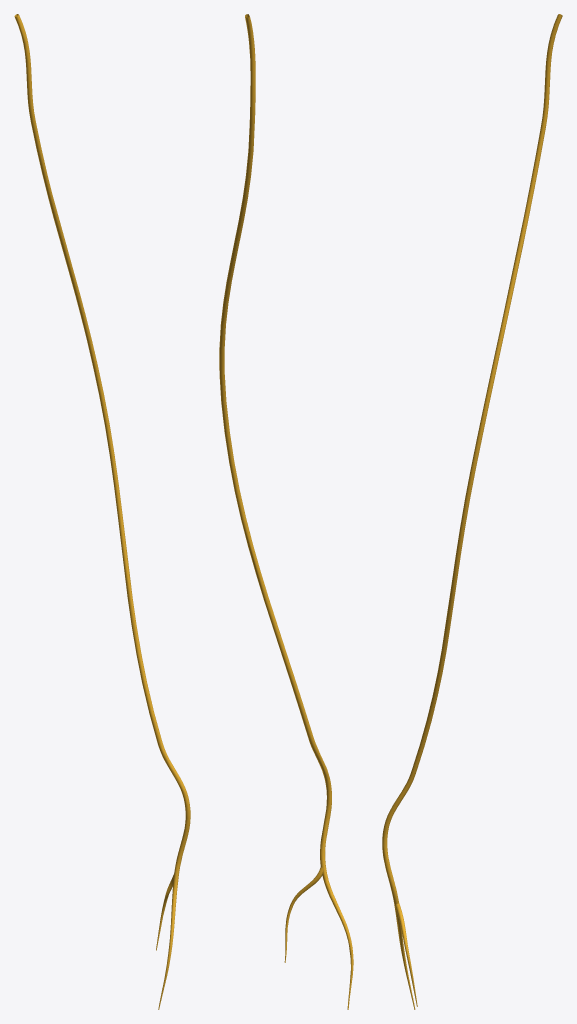
The model's file is nervoso-femoral-branch-of-genitofemoral-nerve-l.glb.
3 renders of one model, left to right at view 1: azimuth 90°, elevation 25°; view 2: azimuth 150°, elevation 25°; view 3: azimuth 270°, elevation 25°, orthographic. The views are drawn at different scales.
Visible parts, largest first — view 1: Femoral branch of genitofemoral nerve.l; view 2: Femoral branch of genitofemoral nerve.l; view 3: Femoral branch of genitofemoral nerve.l.
Part boxes in pixels (x1,y1,x2,y2): Femoral branch of genitofemoral nerve.l: (14, 14, 190, 1009); Femoral branch of genitofemoral nerve.l: (219, 14, 353, 1009); Femoral branch of genitofemoral nerve.l: (382, 14, 562, 1009).
Bounding box in the file's own units: 0.0212 × 0.2172 × 0.0353.
